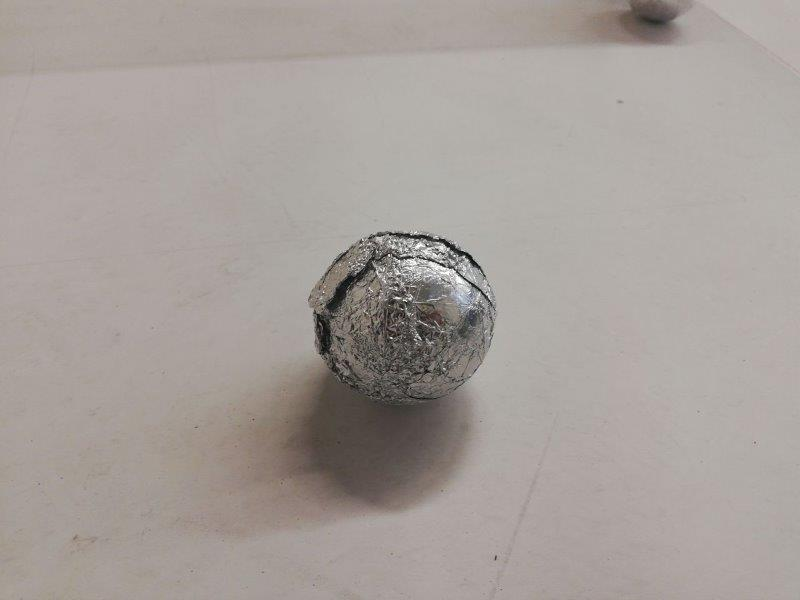bianca: (308, 228, 500, 407)
